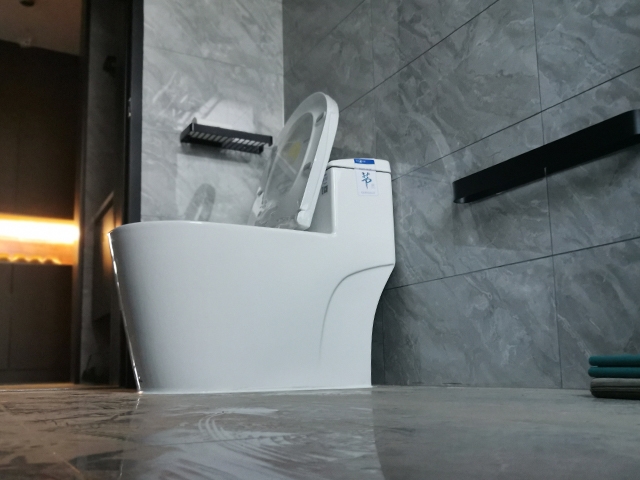cabinet: (1, 261, 78, 386)
closestool: (106, 88, 400, 397)
